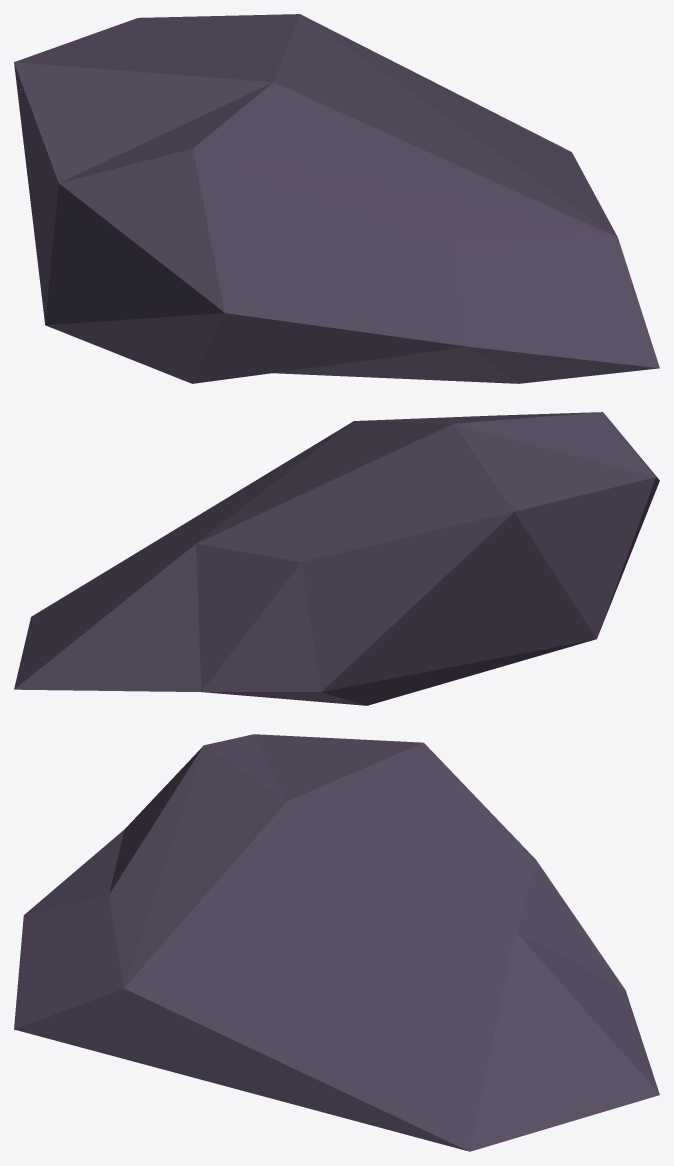
The model's file is SM_rock_large_03.fbx.
The picture shows the model from 3 angles, top to bottom: view 1: azimuth 30°, elevation 25°; view 2: azimuth 150°, elevation 25°; view 3: azimuth 270°, elevation 25°; orthographic projection. The views are drawn at different scales.
Visible parts, largest first — view 1: rock_large_03; view 2: rock_large_03; view 3: rock_large_03.
Part boxes in pixels (box(x1,y1,x2,y2)): rock_large_03: box(14, 14, 659, 383); rock_large_03: box(14, 412, 659, 705); rock_large_03: box(14, 734, 659, 1151).
Bounding box in the file's own units: 157 × 66.04 × 177.
